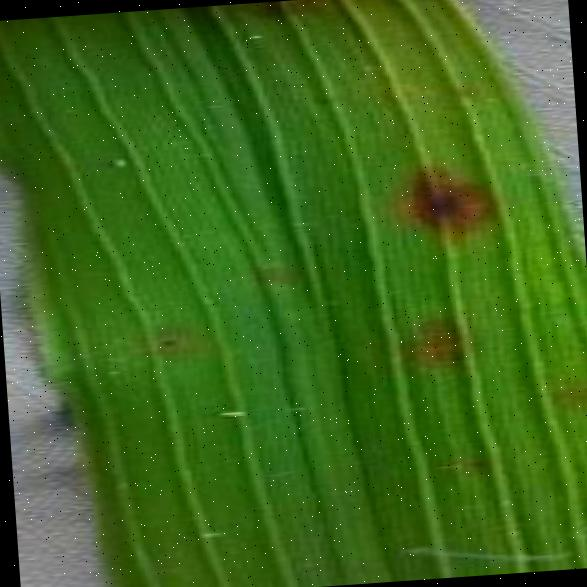Brown_Spot: (382, 147, 507, 246), (399, 309, 486, 382), (145, 322, 184, 354), (300, 82, 339, 112), (461, 450, 492, 474)
